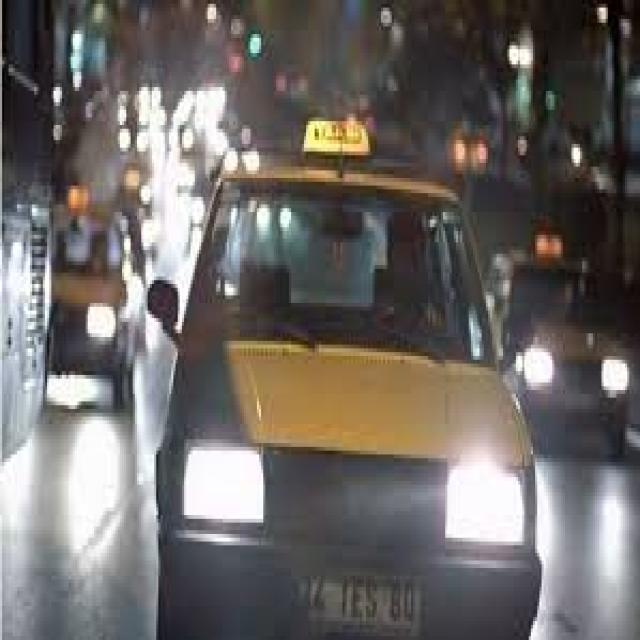car: (148, 122, 541, 639)
